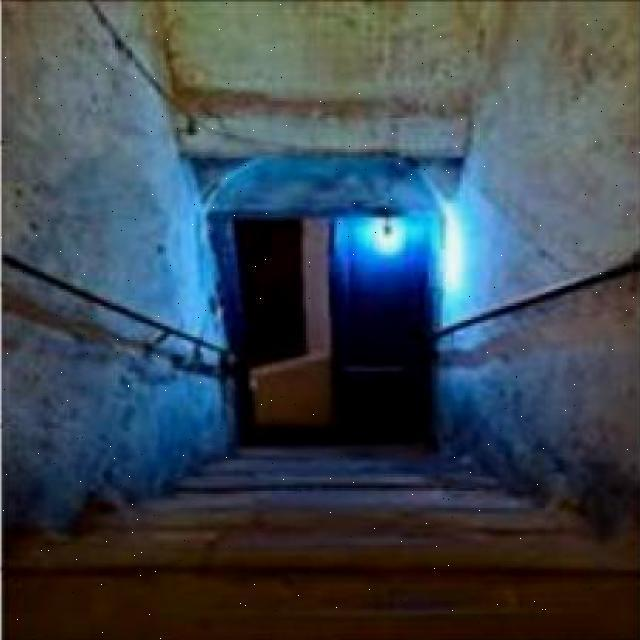stair: (98, 460, 514, 610)
